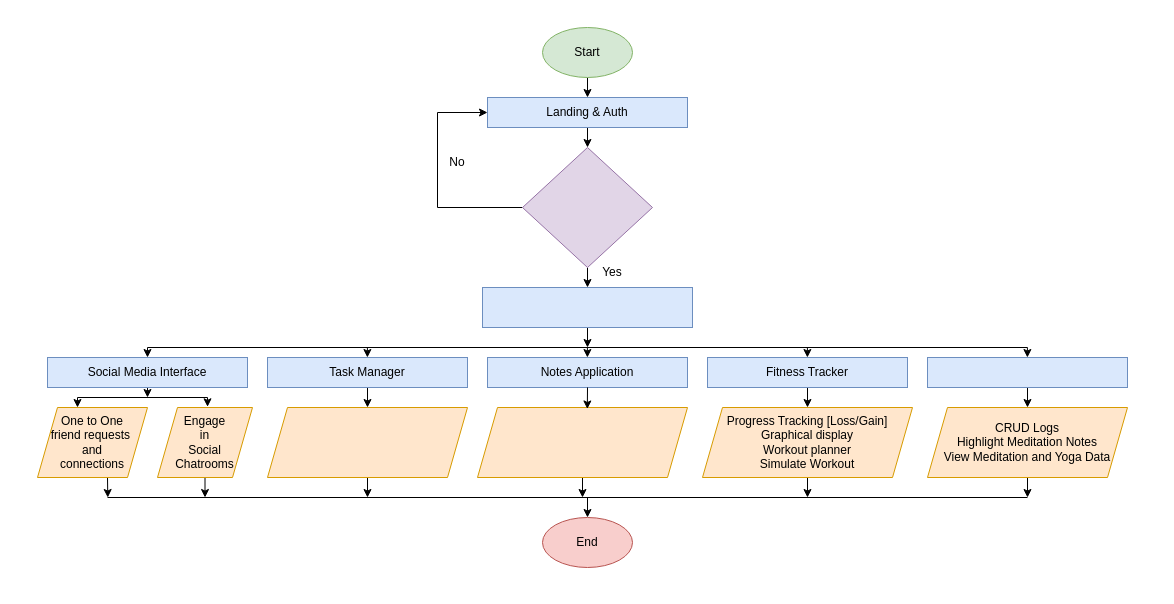
Image size: 1174x604. Some labels were removed from this diagram. Each missing label, with the centre of its shape:
"Aspirely Dashboard Access [Overall Progress Tracker Integrated]" belongs at point (587, 307).
"CRUD Notes Note categories Rick Text / Markdown Support Search & Pin Notes" belongs at point (582, 442).
"CRUD Tasks Visit Task History Schedule Tasks Sort tasks by priority" belongs at point (367, 442).
"Is user authenticated?" belongs at point (587, 207).
"Meditation Logs" belongs at point (1027, 372).
